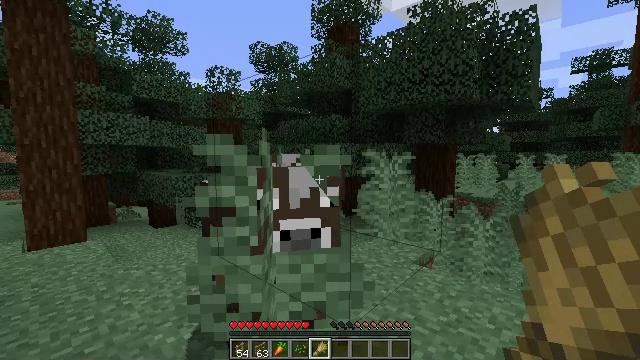cow: (265, 165, 339, 248)
